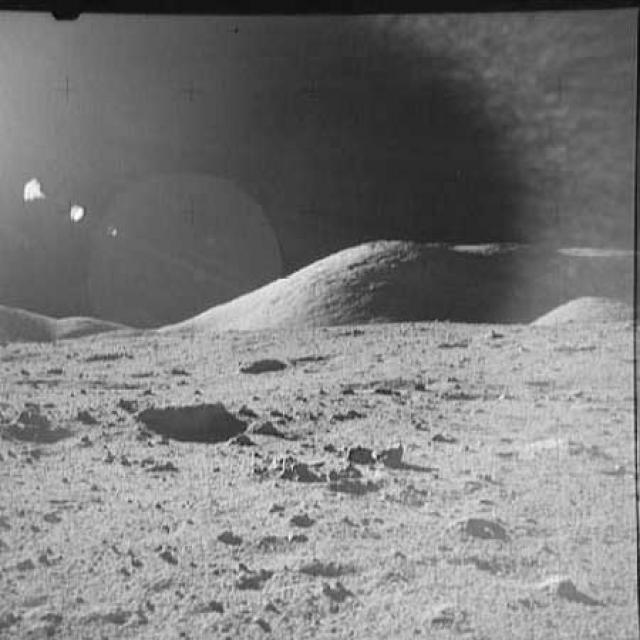crater: (142, 397, 240, 442), (9, 412, 82, 452)
rock: (446, 508, 511, 542), (238, 352, 286, 375), (542, 573, 580, 601), (343, 436, 377, 465), (382, 436, 408, 468)
